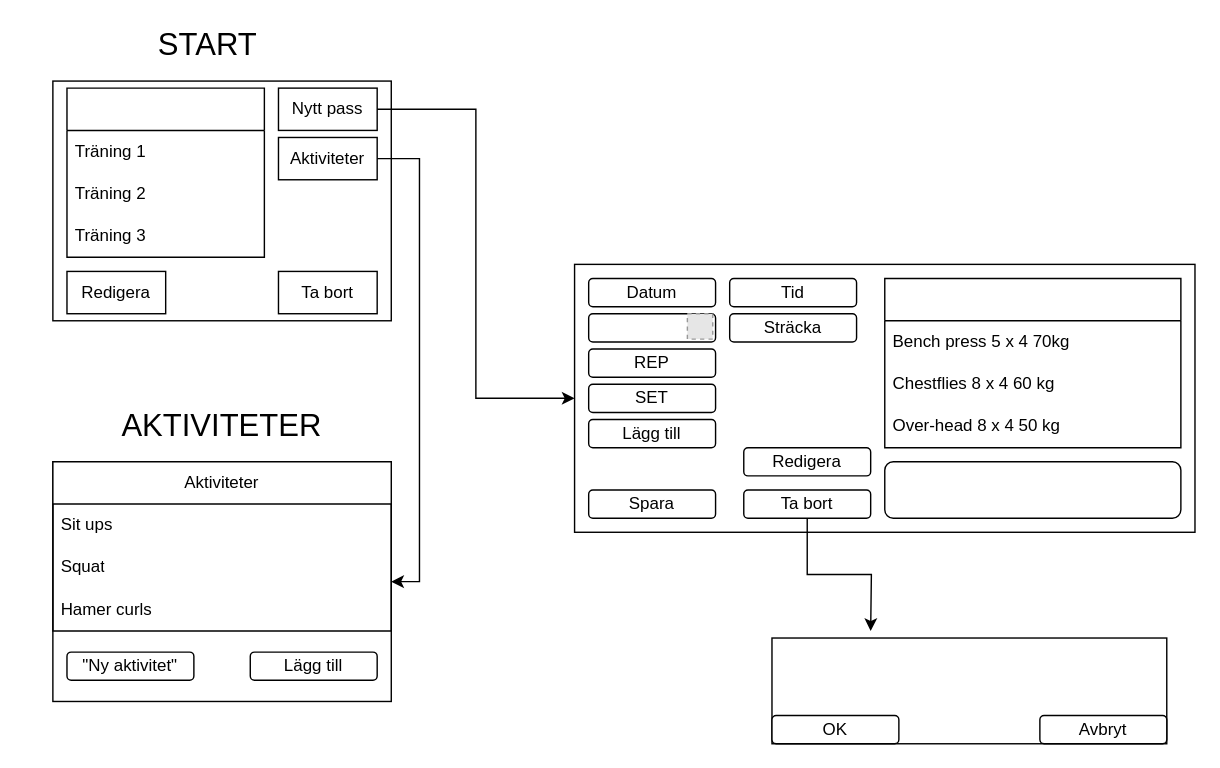
Image size: 1220x768. Some labels were removed from this diagram. Grey dashed boxes stand in for pictures. Each missing label, with the box of its shape:
Anteckning: (883, 460, 1181, 518)
TA BORT?: (771, 637, 1167, 744)
Tidigare pass: (66, 87, 264, 257)
Övning: (587, 312, 716, 342)
Övningar: (883, 277, 1181, 448)
